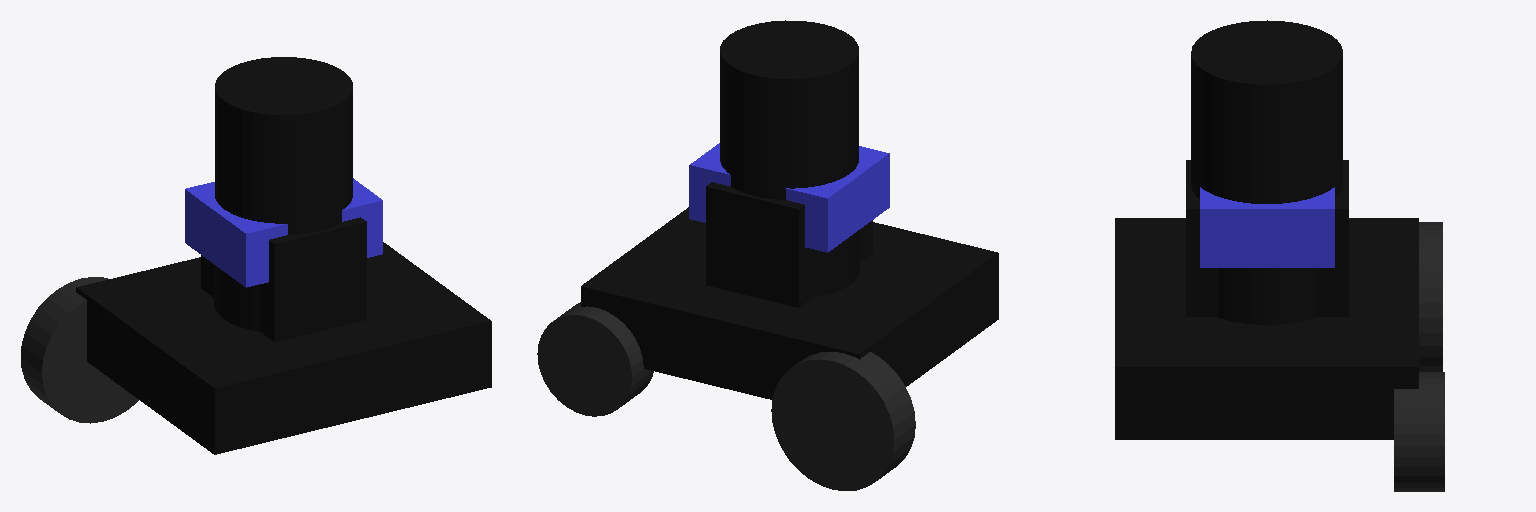
URDF robot description (evolved_robot):
<?xml version="1.0"?>
<robot name="evolved_robot">
  <material name="metal">
    <color rgba="0.7 0.7 0.7 1.0"/>
  </material>
  <material name="plastic">
    <color rgba="0.3 0.3 0.9 1.0"/>
  </material>
  <material name="rubber">
    <color rgba="0.1 0.1 0.1 1.0"/>
  </material>
  <material name="red">
    <color rgba="1.0 0.0 0.0 1.0"/>
  </material>
  <material name="wheel_material">
    <color rgba="0.2 0.2 0.2 1.0"/>
  </material>
  <link name="base_link">
    <visual>
      <geometry><box size="0.3510706422823209 0.30322775093557175 0.08068832829829782"/></geometry>
      <material name="rubber"/>
    </visual>
    <collision>
      <geometry><box size="0.3510706422823209 0.30322775093557175 0.08068832829829782"/></geometry>
    </collision>
    <inertial>
      <mass value="5.0"/>
      <inertia ixx="0.08204806271751584" ixy="0" ixz="0" 
               iyy="0.10813433516341266" iyz="0" 
               izz="0.1793313873416387"/>
    </inertial>
  </link>
  <link name="link1">
    <visual>
      <geometry><cylinder radius="0.07697074631483639" length="0.21496696738229876"/></geometry>
      <material name="rubber"/>
    </visual>
    <collision>
      <geometry><cylinder radius="0.07697074631483639" length="0.21496696738229876"/></geometry>
    </collision>
    <inertial>
      <mass value="0.5"/>
      <inertia ixx="0.005332023702527583" ixy="0" ixz="0" 
               iyy="0.005332023702527583" iyz="0" 
               izz="0.0029622478941314493"/>
    </inertial>
  </link>
  <joint name="joint1" type="prismatic">
    <parent link="base_link"/>
    <child link="link1"/>
    <origin xyz="0 0 0.04034416414914891" rpy="0 0 0"/>
    <axis xyz="0.6133294922038455 -0.4602094076032439 0.6418989290740749"/>
    <dynamics damping="0.6515641129532233" friction="0.1"/>
    <limit lower="-1.7743907201818965" upper="1.2717079639294546" effort="100" velocity="100"/>
  </joint>
  <link name="link2">
    <visual>
      <geometry>
        <cylinder radius="0.05964186356133744" length="0.05091849446327726"/>
      </geometry>
      <material name="wheel_material"/>
    </visual>
    <collision>
      <geometry>
        <cylinder radius="0.05964186356133744" length="0.05091849446327726"/>
      </geometry>
    </collision>
    <inertial>
      <mass value="1.0"/>
      <inertia ixx="0.0011053457288011973" ixy="0" ixz="0" 
               iyy="0.0011053457288011973" iyz="0" 
               izz="0.0017785759445345952"/>
    </inertial>
  </link>
  <joint name="joint2" type="continuous">
    <parent link="base_link"/>
    <child link="link2"/>
    <origin xyz="0.15553532114116045 0.15161387546778587 -0.04034416414914891" rpy="1.5708 0 0"/>
    <axis xyz="0 1 0"/>
    <dynamics damping="0.6237323492205411" friction="0.1"/>
  </joint>
  <link name="link3">
    <visual>
      <geometry><box size="0.11700741769070341 0.16250170005777426 0.13750394350435952"/></geometry>
      <material name="rubber"/>
    </visual>
    <collision>
      <geometry><box size="0.11700741769070341 0.16250170005777426 0.13750394350435952"/></geometry>
    </collision>
    <inertial>
      <mass value="0.5"/>
      <inertia ixx="0.0037761780834097438" ixy="0" ixz="0" 
               iyy="0.002716505856158069" iyz="0" 
               izz="0.003341461526359464"/>
    </inertial>
  </link>
  <joint name="joint3" type="prismatic">
    <parent link="base_link"/>
    <child link="link3"/>
    <origin xyz="0 0 0.09034416414914892" rpy="0 0 0"/>
    <axis xyz="0.3120830582443221 0.9490216886831554 0.04429445976465996"/>
    <dynamics damping="0.9395296771943603" friction="0.1"/>
    <limit lower="-0.7345191566587939" upper="1.2169395730998822" effort="100" velocity="100"/>
  </joint>
  <link name="link4">
    <visual>
      <geometry>
        <cylinder radius="0.07741305339524476" length="0.046968017321943833"/>
      </geometry>
      <material name="wheel_material"/>
    </visual>
    <collision>
      <geometry>
        <cylinder radius="0.07741305339524476" length="0.046968017321943833"/>
      </geometry>
    </collision>
    <inertial>
      <mass value="1.0"/>
      <inertia ixx="0.0016820280965899556" ixy="0" ixz="0" 
               iyy="0.0016820280965899556" iyz="0" 
               izz="0.0029963904179875086"/>
    </inertial>
  </link>
  <joint name="joint4" type="continuous">
    <parent link="base_link"/>
    <child link="link4"/>
    <origin xyz="-0.15553532114116045 0.15161387546778587 -0.04034416414914891" rpy="1.5708 0 0"/>
    <axis xyz="0 1 0"/>
    <dynamics damping="0.4452985084493982" friction="0.1"/>
  </joint>
  <link name="link5">
    <visual>
      <geometry><box size="0.17408111450847796 0.13488318297381083 0.0653079719149393"/></geometry>
      <material name="plastic"/>
    </visual>
    <collision>
      <geometry><box size="0.17408111450847796 0.13488318297381083 0.0653079719149393"/></geometry>
    </collision>
    <inertial>
      <mass value="0.5"/>
      <inertia ixx="0.0018715503537324195" ixy="0" ixz="0" 
               iyy="0.002880780468679693" iyz="0" 
               izz="0.004041475623138362"/>
    </inertial>
  </link>
  <joint name="joint5" type="fixed">
    <parent link="base_link"/>
    <child link="link5"/>
    <origin xyz="0 0 0.1403441641491489" rpy="0 0 0"/>
    <axis xyz="0.44732216390069973 -0.8943725323173374 -0.0008093945075221636"/>
    <dynamics damping="0.4630596703110821" friction="0.1"/>
  </joint>
  <link name="link6">
    <visual>
      <geometry><cylinder radius="0.07603980650600112" length="0.22810087257028583"/></geometry>
      <material name="rubber"/>
    </visual>
    <collision>
      <geometry><cylinder radius="0.07603980650600112" length="0.22810087257028583"/></geometry>
    </collision>
    <inertial>
      <mass value="0.5"/>
      <inertia ixx="0.005781347048978004" ixy="0" ixz="0" 
               iyy="0.005781347048978004" iyz="0" 
               izz="0.002891026086735045"/>
    </inertial>
  </link>
  <joint name="joint6" type="revolute">
    <parent link="base_link"/>
    <child link="link6"/>
    <origin xyz="0 0 0.19034416414914893" rpy="0 0 0"/>
    <axis xyz="0.0 -1.0 0.0"/>
    <dynamics damping="0.4788067361366989" friction="0.1"/>
    <limit lower="-1.3912906195743806" upper="1.0618196051919588" effort="100" velocity="100"/>
  </joint>
</robot>

--- Facts derived from the render (not from the file) ---
The picture shows the robot from 3 angles, left to right: view 1: azimuth 30°, elevation 25°; view 2: azimuth 150°, elevation 25°; view 3: azimuth 270°, elevation 25°; orthographic projection.
Robot: evolved_robot — 7 links, 6 joints (1 revolute, 2 continuous, 2 prismatic, 1 fixed); root link base_link; default pose: every joint at zero.
Links seen in each view (by area): view 1: base_link, link6, link3, link4, link5, link1; view 2: base_link, link6, link4, link3, link2, link5, link1; view 3: base_link, link6, link5, link2, link3, link1, link4.
Link boxes in pixels (bbox=[...]): base_link: bbox=[76, 242, 491, 454]; link6: bbox=[215, 57, 352, 234]; link3: bbox=[201, 217, 366, 341]; link4: bbox=[21, 277, 138, 423]; link5: bbox=[185, 178, 382, 287]; link1: bbox=[214, 265, 259, 331]; base_link: bbox=[581, 207, 998, 399]; link6: bbox=[720, 20, 858, 199]; link4: bbox=[771, 352, 915, 490]; link3: bbox=[706, 182, 872, 307]; link2: bbox=[537, 302, 653, 416]; link5: bbox=[689, 143, 889, 252]; link1: bbox=[813, 230, 859, 296]; base_link: bbox=[1115, 218, 1418, 439]; link6: bbox=[1191, 20, 1342, 203]; link5: bbox=[1200, 187, 1334, 267]; link2: bbox=[1394, 372, 1444, 491]; link3: bbox=[1186, 160, 1348, 316]; link1: bbox=[1218, 268, 1316, 324]; link4: bbox=[1419, 222, 1442, 371].
Size in the robot's own frame: 0.4481 by 0.3287 by 0.4222 metres.
Geometry: primitives only (box / cylinder / sphere), no mesh files.